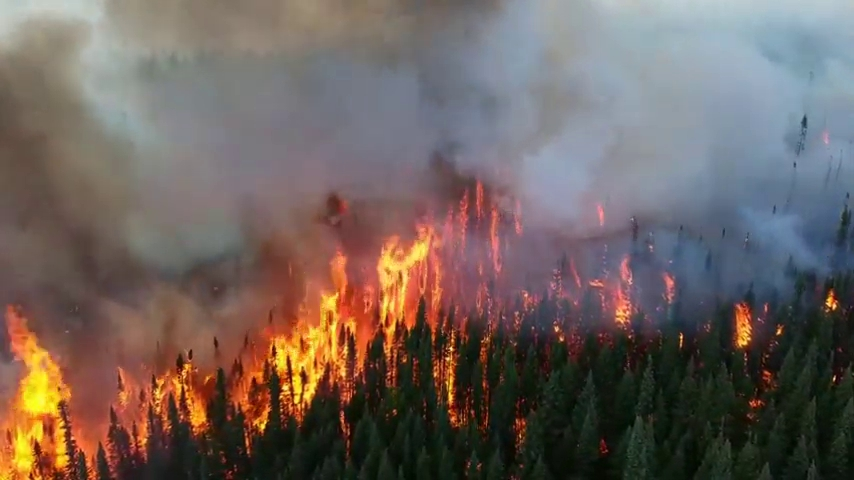forest_fire: (110, 182, 676, 443), (0, 306, 101, 476), (430, 351, 454, 401), (553, 311, 581, 350), (731, 302, 752, 348), (825, 290, 833, 309), (597, 206, 603, 222), (634, 249, 648, 255), (341, 388, 351, 396), (334, 219, 344, 227), (647, 323, 656, 330), (451, 416, 460, 422), (214, 339, 218, 348), (336, 210, 343, 212), (519, 435, 520, 440), (388, 356, 389, 360), (481, 351, 483, 353), (604, 446, 605, 449), (519, 419, 521, 420)
